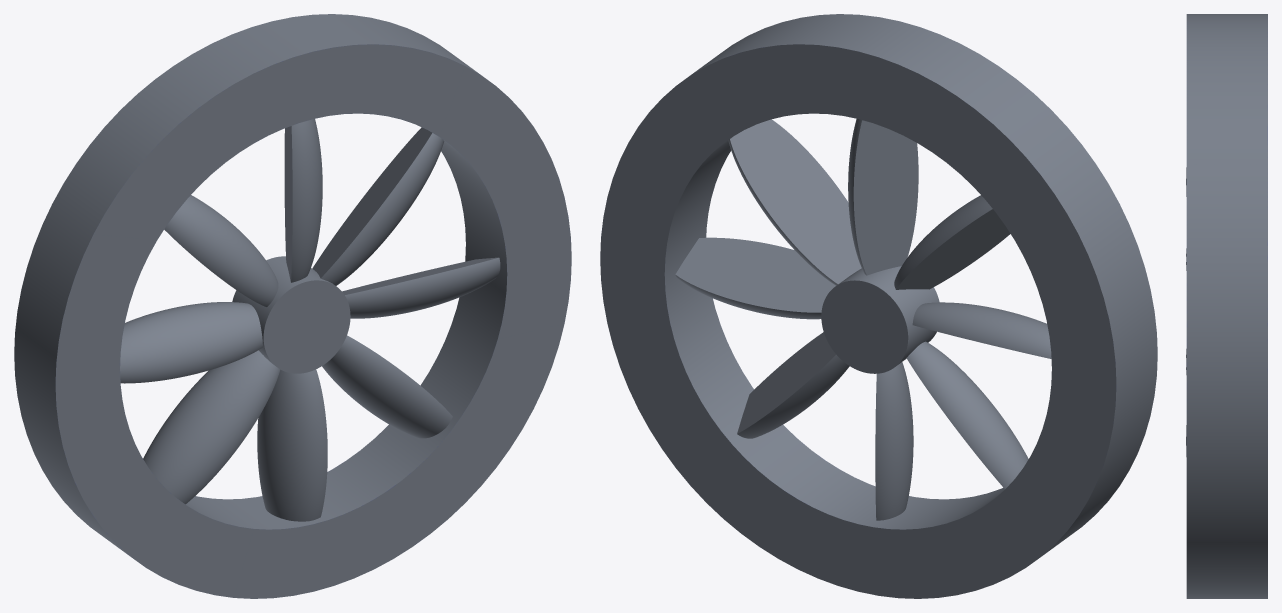
The model's file is turbine-transformed.glb.
3 renders of one model, left to right at view 1: azimuth 30°, elevation 25°; view 2: azimuth 150°, elevation 25°; view 3: azimuth 270°, elevation 25°, orthographic.
Parts seen in each view (by area): view 1: mesh_id43, mesh_id48 (×11), mesh_id140; view 2: mesh_id43, mesh_id48 (×10), mesh_id140; view 3: mesh_id43.
Part boxes in pixels (x1,y1,x2,y2): mesh_id43: (14,14,571,598); mesh_id48 (×11): (120,119,500,521); mesh_id140: (232,256,350,373); mesh_id43: (600,14,1157,598); mesh_id48 (×10): (675,119,1051,520); mesh_id140: (821,266,939,373); mesh_id43: (1186,14,1267,598).
Size of the model in its own units: 0.594 by 0.594 by 0.0829.
Materials: 3 (3 with a texture image).
